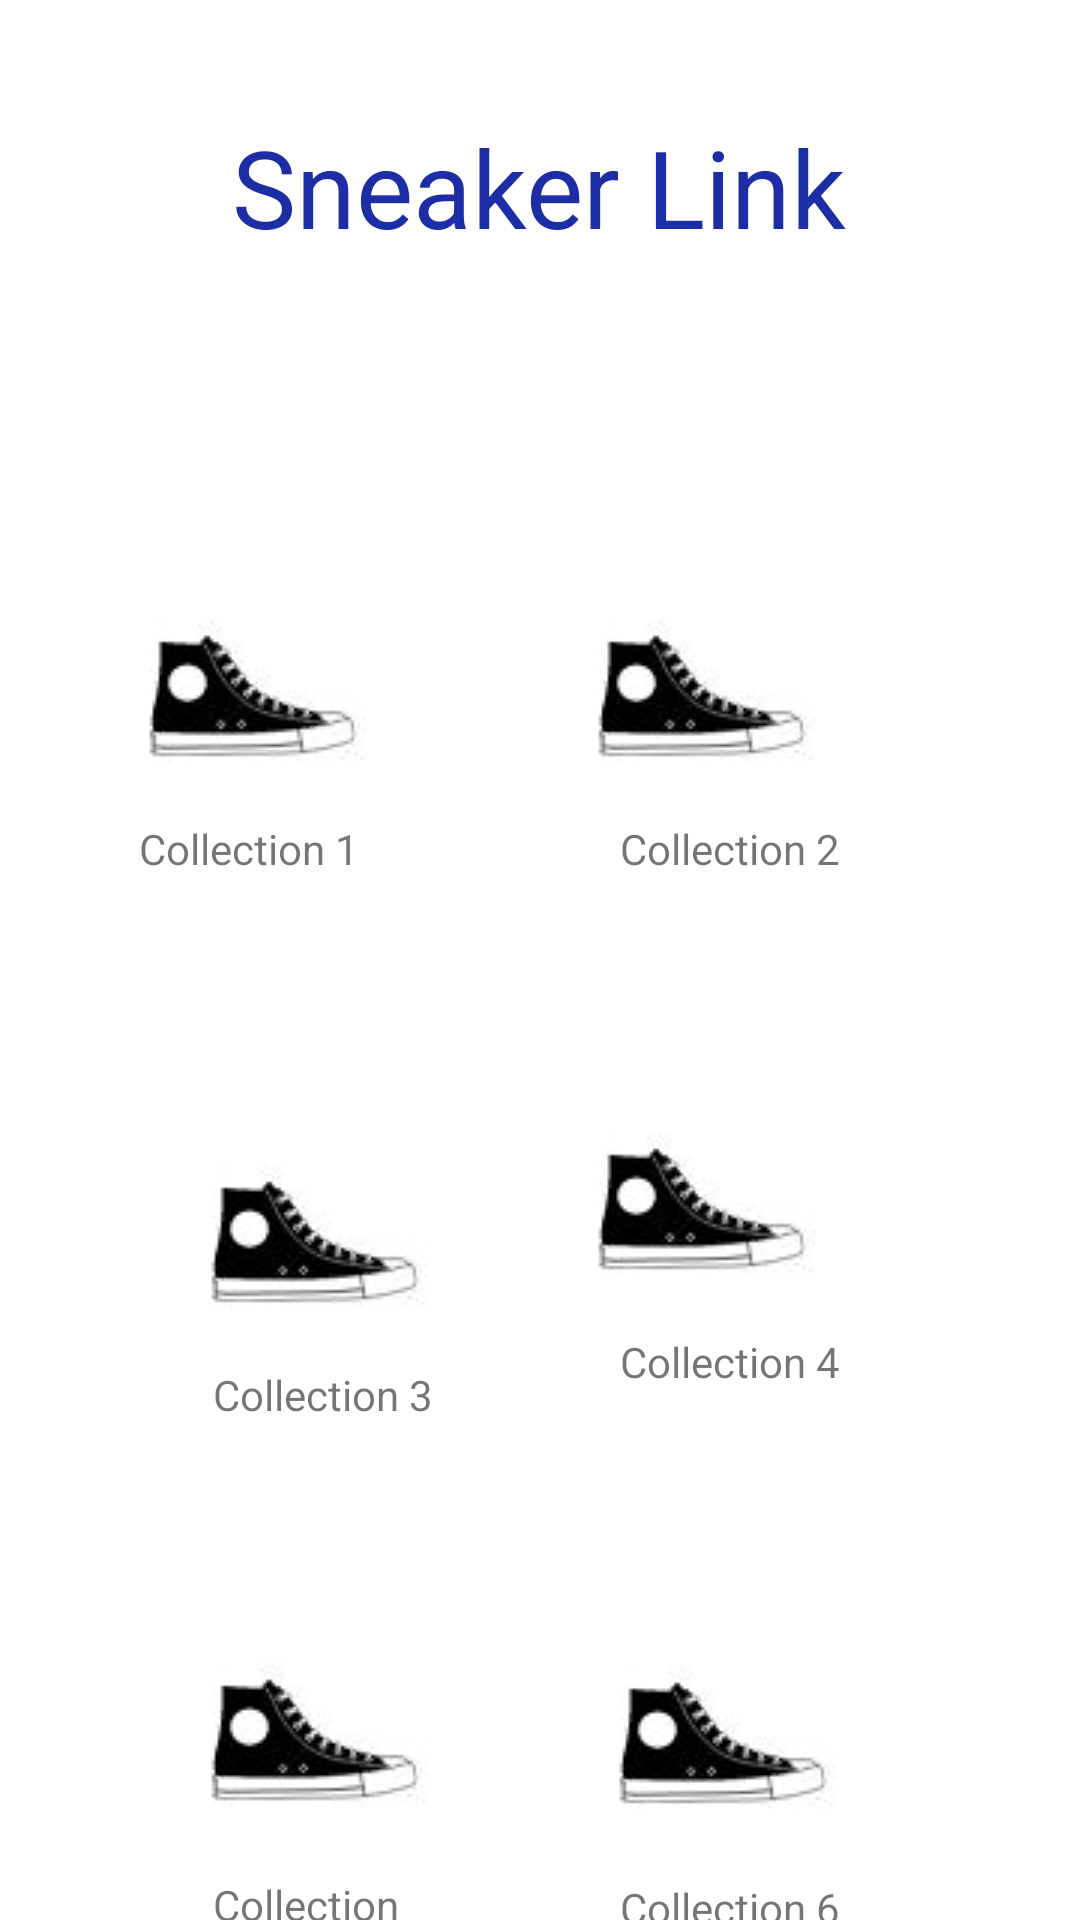

Icons on this 1080 x 1920 Android screen, each with the point to tap as [x,y]:
sneaker: [252,696], [701,696], [701,1209], [314,1242], [314,1740], [722,1743]
